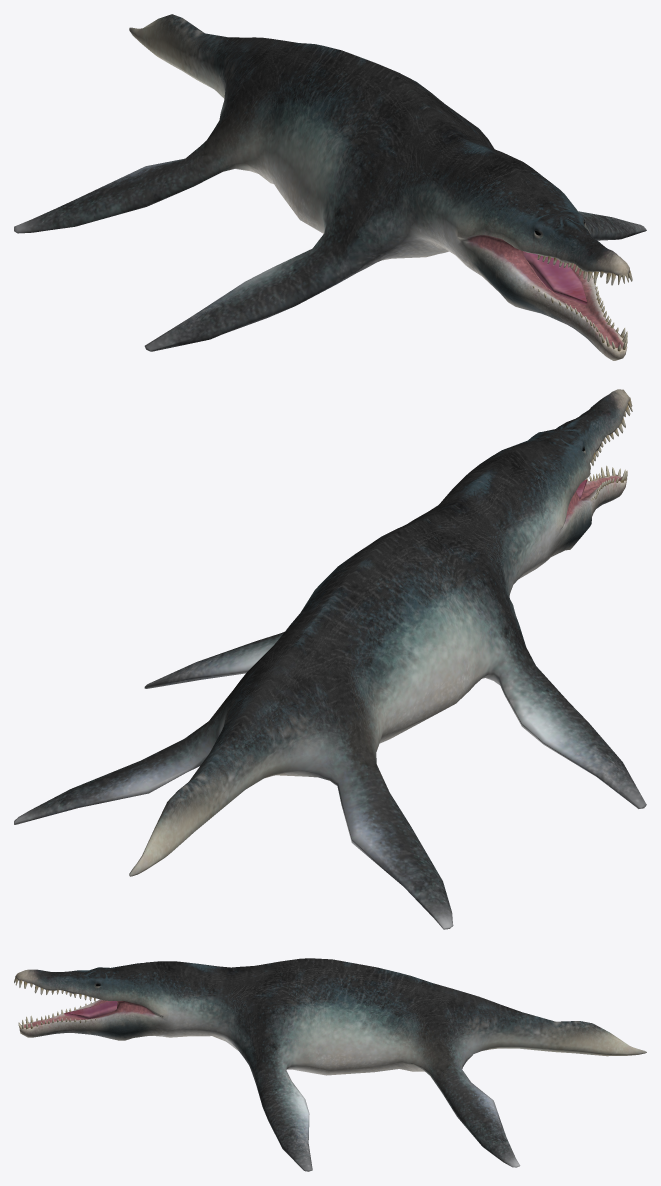
Rendered from kronosaurus.glb.
The picture shows the model from 3 angles, top to bottom: view 1: azimuth 30°, elevation 25°; view 2: azimuth 150°, elevation 25°; view 3: azimuth 270°, elevation 25°; orthographic projection. The views are drawn at different scales.
Visible parts, largest first — view 1: 1-_Kronosaurus11; view 2: 1-_Kronosaurus11; view 3: 1-_Kronosaurus11.
Part boxes in pixels (bbox=[...]): 1-_Kronosaurus11: bbox=[14, 14, 646, 360]; 1-_Kronosaurus11: bbox=[14, 389, 646, 929]; 1-_Kronosaurus11: bbox=[14, 958, 646, 1171].
Bounding box in the file's own units: 2.09 × 0.8924 × 3.61.
Materials: 1 (1 with a texture image).
